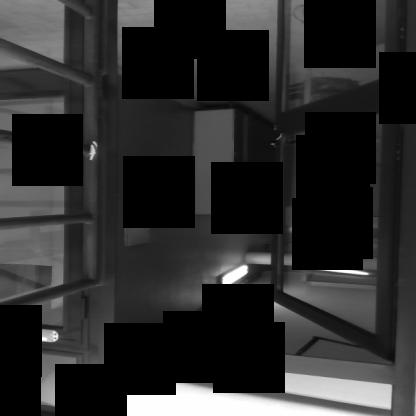Porte: (101, 0, 414, 385)
